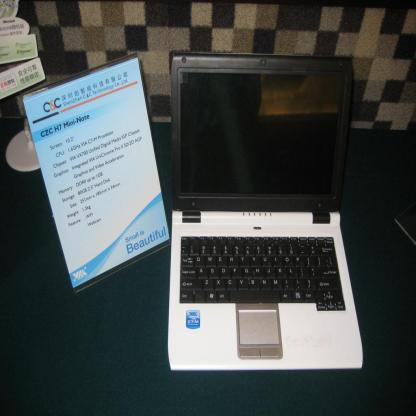board: (168, 55, 362, 370)
